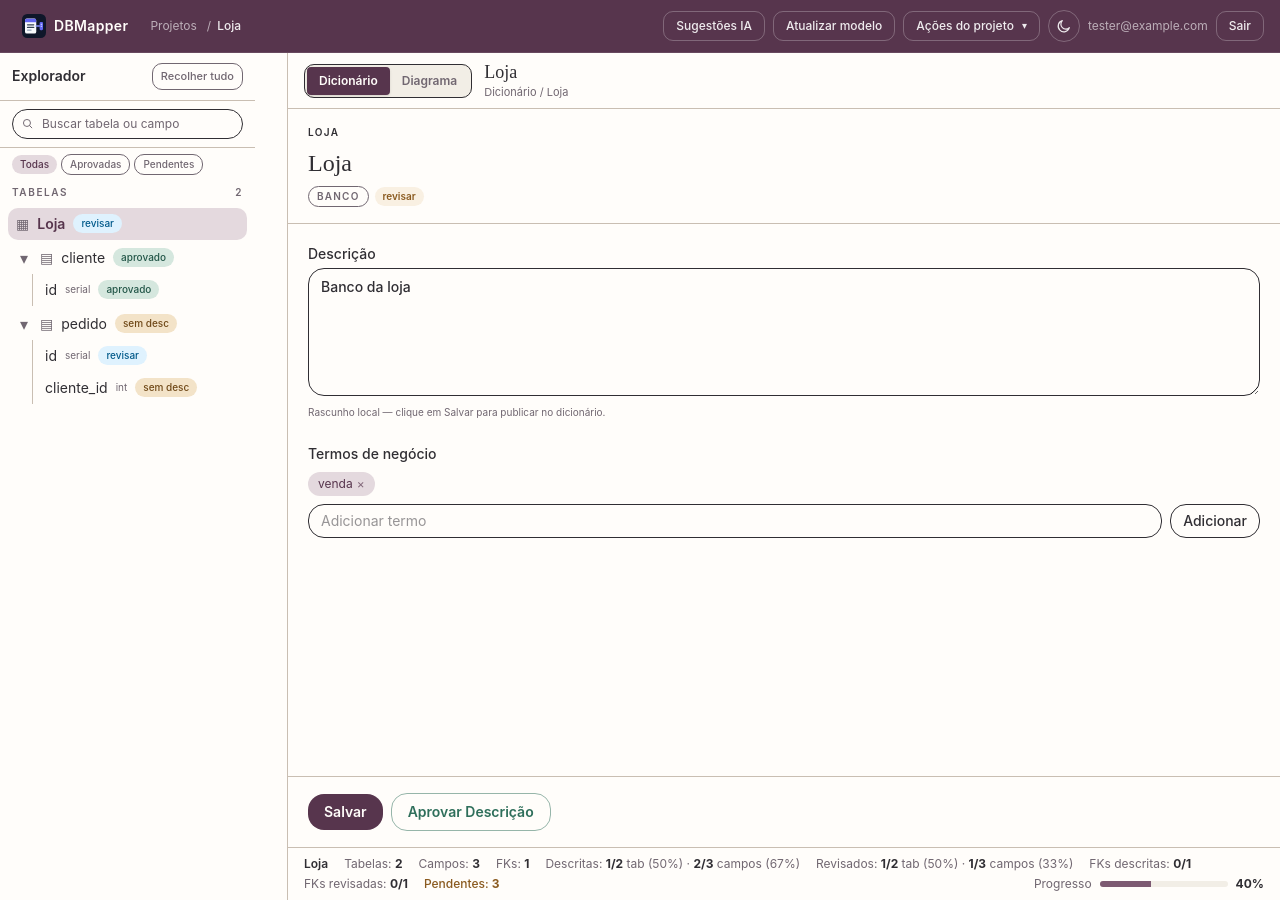
it: WorkspacePage › selecionar uma coluna carrega seus dados no editor
This screenshot has width=1280, height=900.
Click the button with test id "column-row-pedido-id". click: [142, 356]
box: top-left (37, 340), bottom-right (247, 372)
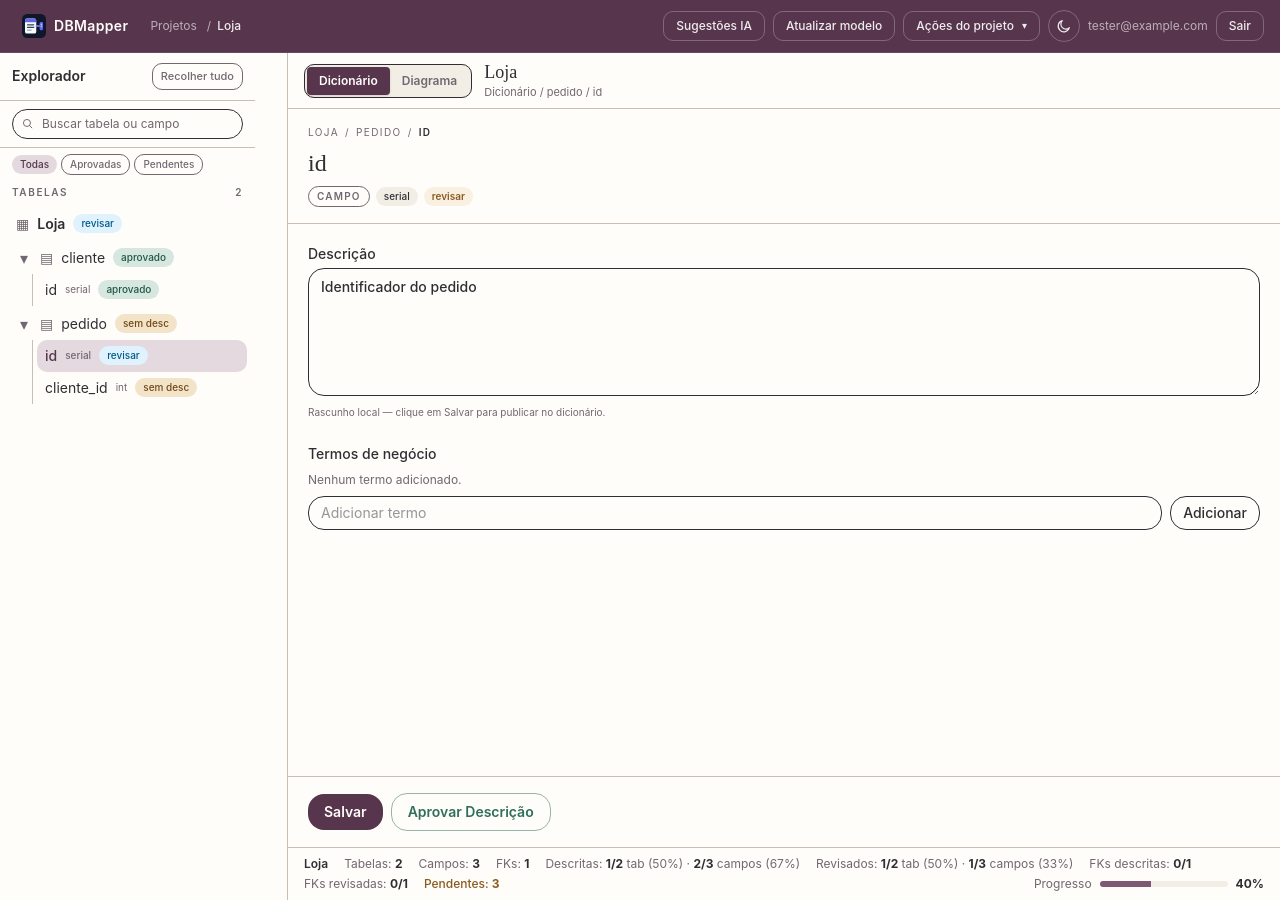
Check: the text box labelled "Descrição" holds "Identificador do pedido", box top-left (308, 268), bottom-right (1260, 396)
Check: the navigation bar named "Breadcrumb" shows "pedido", box top-left (356, 126), bottom-right (402, 138)
Check: the navigation bar named "Breadcrumb" shows "id", box top-left (419, 126), bottom-right (431, 138)
